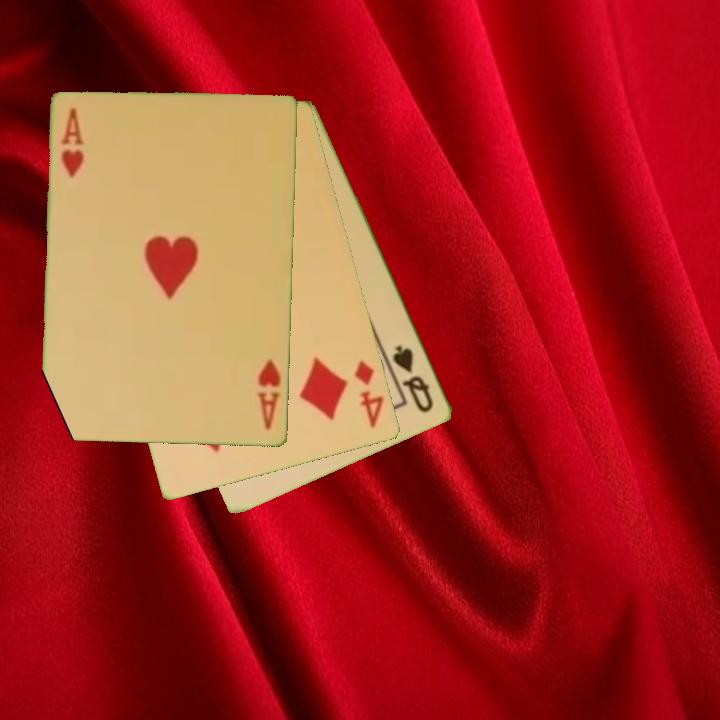4d: (351, 357, 388, 431)
Ah: (254, 356, 284, 433), (57, 105, 87, 181)
Qs: (389, 341, 437, 416)
